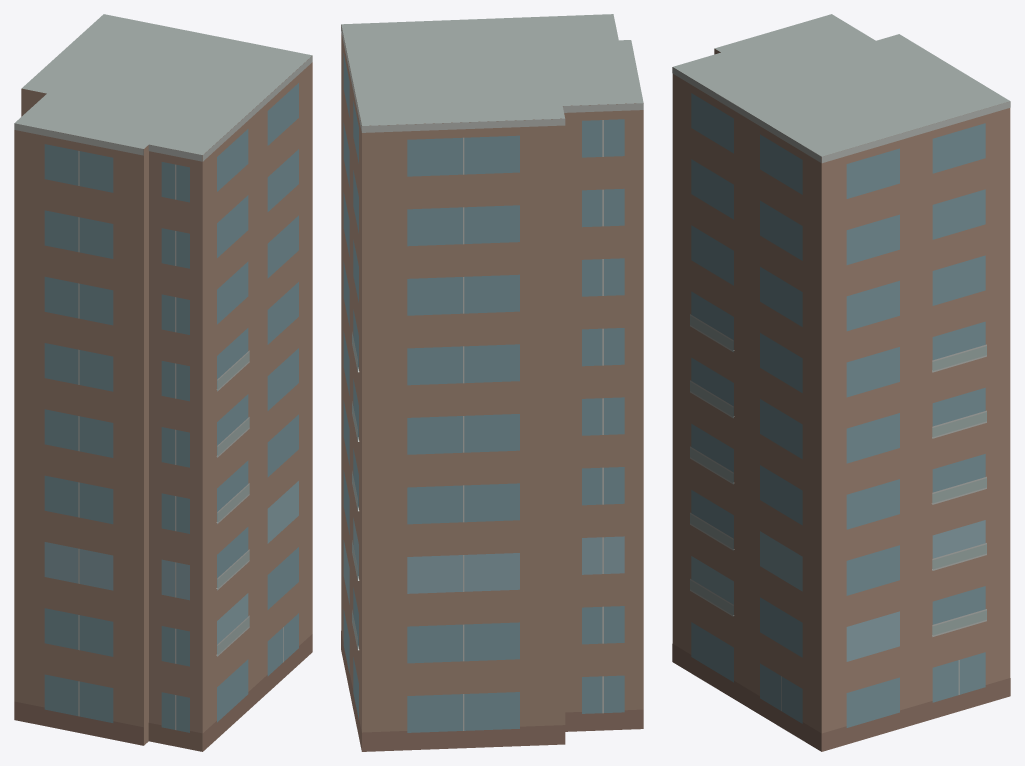
File: survey-upis-33018943.glb
3 renders of one model, left to right at view 1: azimuth 30°, elevation 25°; view 2: azimuth 150°, elevation 25°; view 3: azimuth 270°, elevation 25°, orthographic. The views are drawn at different scales.
Visible parts, largest first — view 1: survey-upis-33018943.tmp; view 2: survey-upis-33018943.tmp; view 3: survey-upis-33018943.tmp.
Part boxes in pixels (<box>): survey-upis-33018943.tmp: <box>14,14,312,751</box>; survey-upis-33018943.tmp: <box>341,14,643,751</box>; survey-upis-33018943.tmp: <box>672,14,1010,751</box>.
Size of the model in its own units: 11.38 by 22.1 by 11.38.
